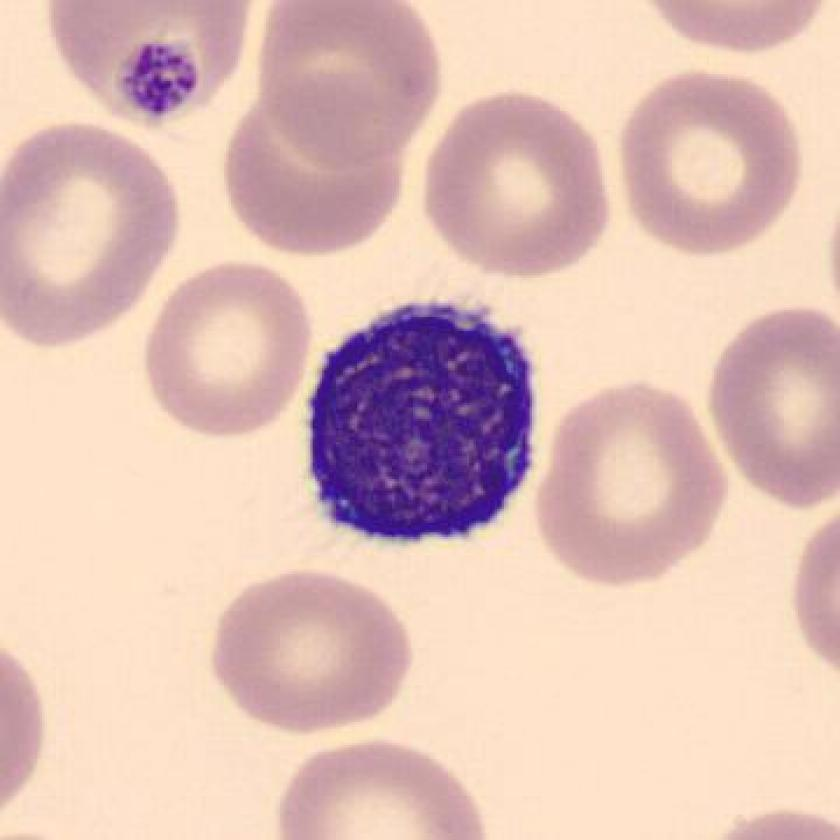lymphocyte: (286, 288, 556, 566)
platelets: (110, 35, 206, 127)
